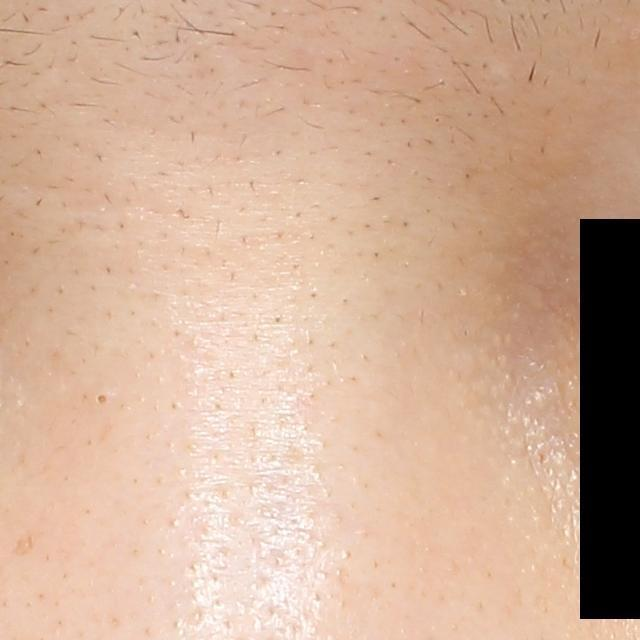comedo: (94, 390, 112, 409)
